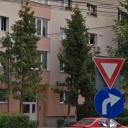preferencia: (92, 54, 128, 90)
